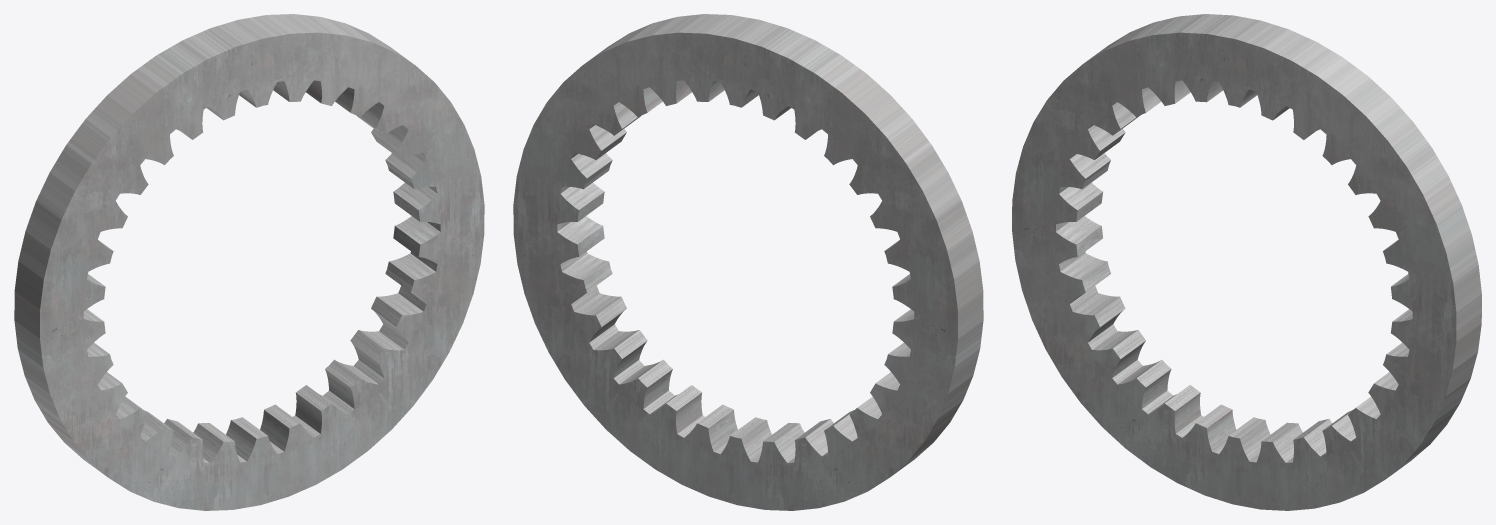
Rendered from ring_gear.glb.
The picture shows the model from 3 angles, left to right: view 1: azimuth 30°, elevation 25°; view 2: azimuth 150°, elevation 25°; view 3: azimuth 330°, elevation 25°; orthographic projection.
Parts seen in each view (by area): view 1: OpenSCAD_Model; view 2: OpenSCAD_Model; view 3: OpenSCAD_Model.
Part boxes in pixels (bbox=[...]): OpenSCAD_Model: bbox=[14, 14, 484, 510]; OpenSCAD_Model: bbox=[513, 14, 983, 510]; OpenSCAD_Model: bbox=[1012, 14, 1481, 510].
Bounding box in the file's own units: 121 × 121 × 12.
Materials: 1 (1 with a texture image).
